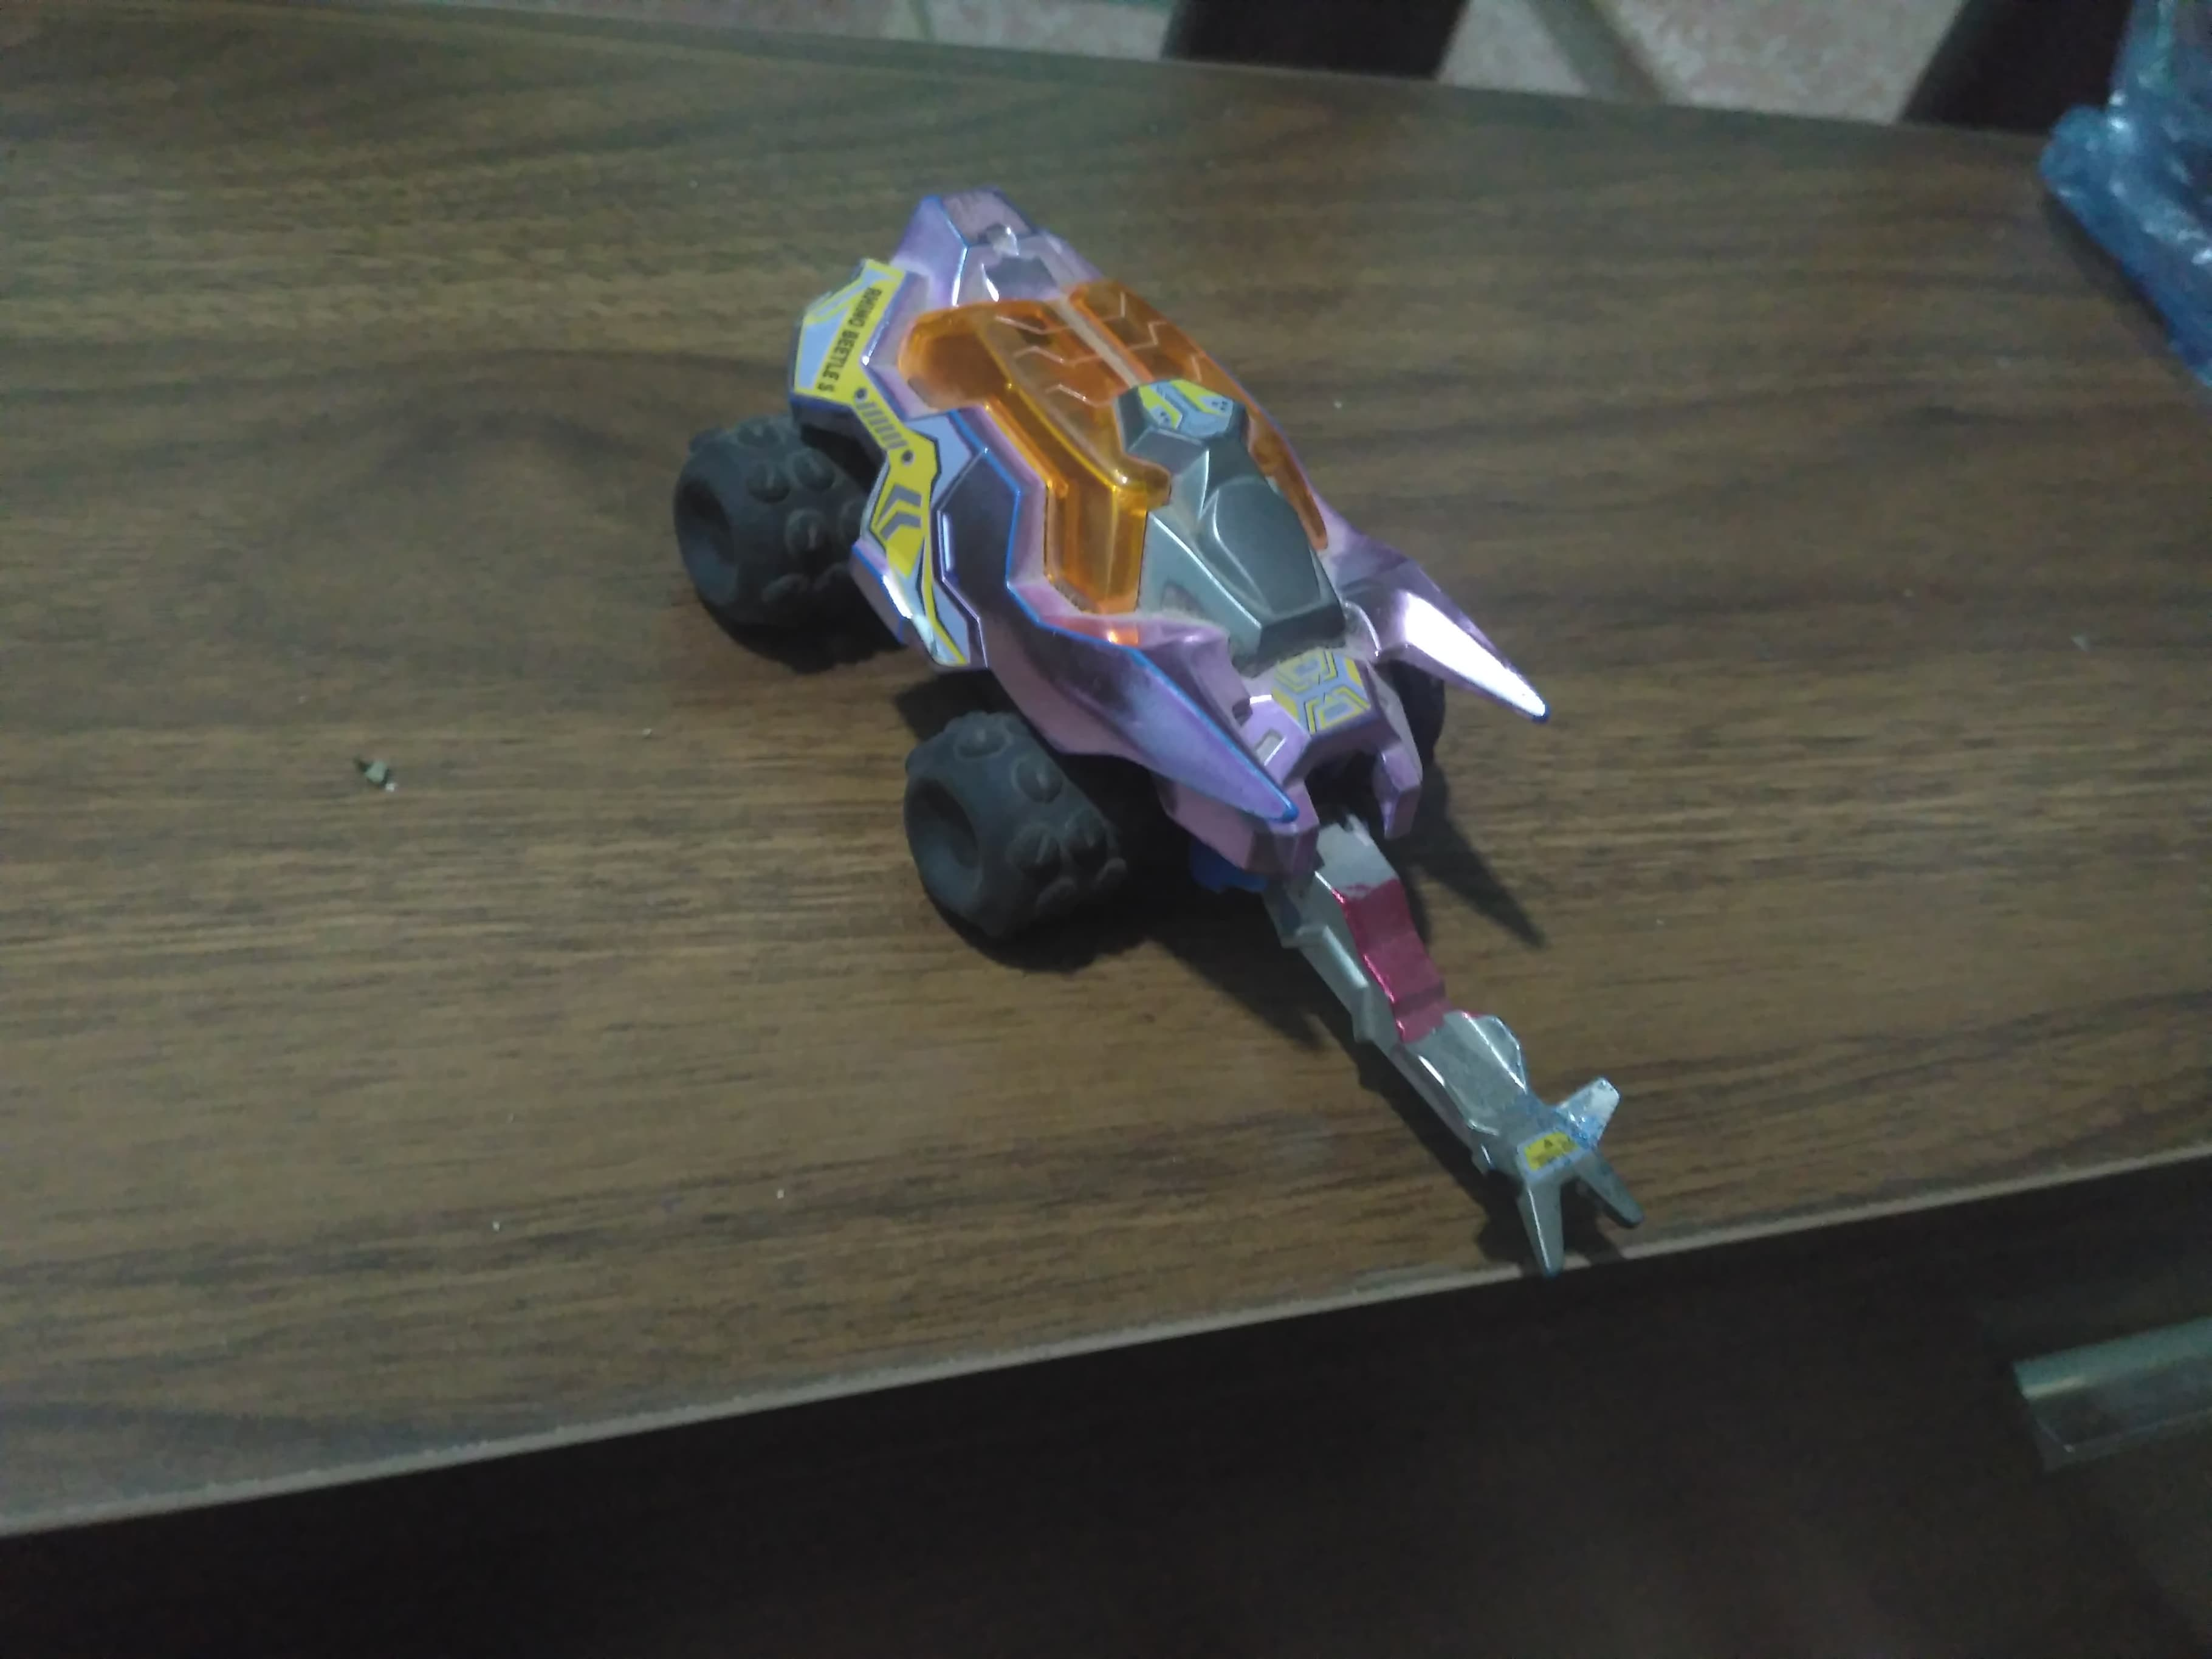rhino: (665, 183, 1651, 1293)
